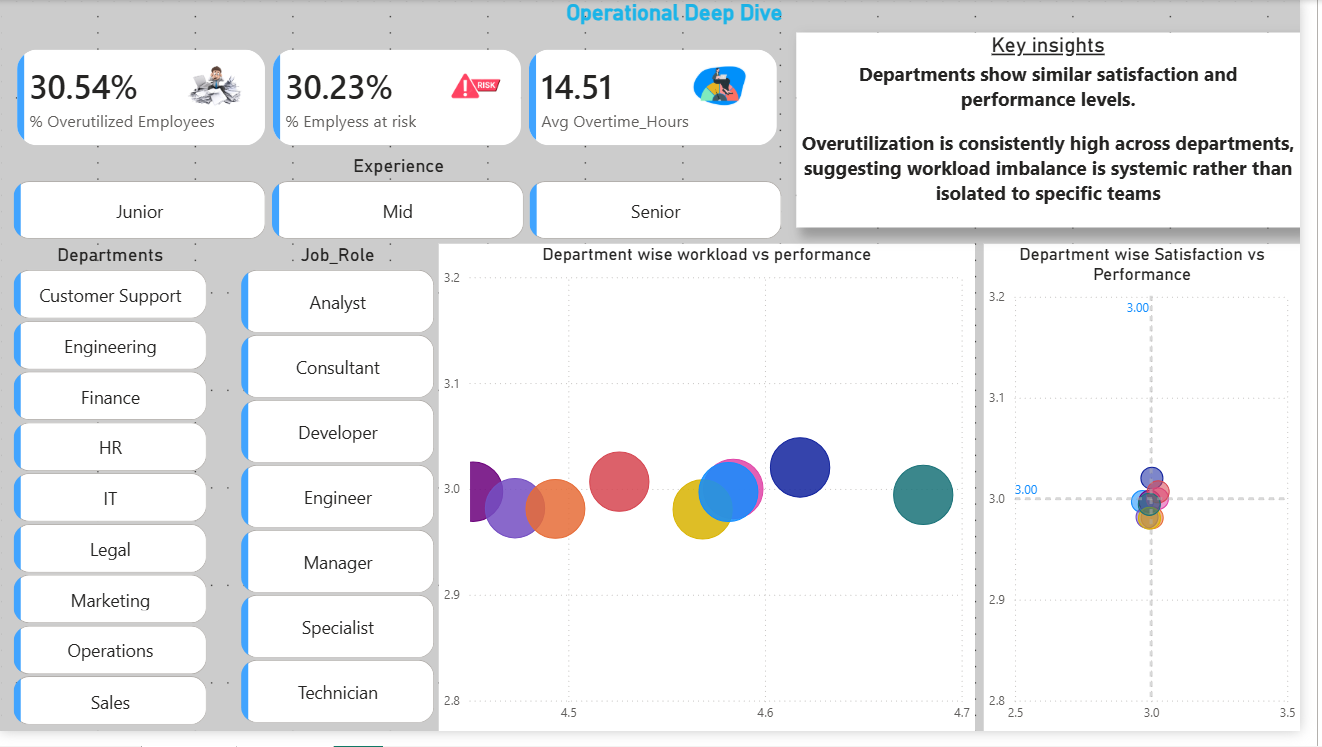

The dashboard page shown, as its layout file describes it:
{"tool":"powerbi","page":{"name":"Page 2","canvas":[1280,720],"ordinal":1},"visuals":[{"type":"textbox","title":"Operational Deep Dive","box":[544,0,240,32],"z":0},{"type":"cardVisual","fields":{"Data":["Employee Data.% Overutilized Employees","Employee Data.% Emplyess at risk","Avg(Employee Data.Overtime_Hours)"]},"box":[0,32,784,128],"z":1000},{"type":"advancedSlicerVisual","fields":{"Values":["Employee Data.Experience Bucket"]},"box":[8,152,768,88],"z":2000},{"type":"advancedSlicerVisual","title":"Departments","fields":{"Values":["Employee Data.Department"]},"box":[8,240,200,480],"z":3000},{"type":"advancedSlicerVisual","fields":{"Values":["Employee Data.Job_Title"]},"box":[232,240,200,480],"z":4000},{"type":"image","box":[184,56,56,56],"z":5000},{"type":"image","box":[440,56,56,56],"z":6000},{"type":"image","box":[680,56,56,56],"z":7000},{"type":"scatterChart","title":"Department wise workload vs performance","fields":{"X":["Avg(Employee Data.Workload Index)"],"Y":["Avg(Employee Data.Performance_Score)"],"Series":["Employee Data.Department"],"Size":["Avg(Employee Data.Overtime_Hours)"]},"box":[432,240,528,480],"z":8000},{"type":"scatterChart","title":"Department wise Satisfaction vs Performance","fields":{"X":["Avg(Employee Data.Employee_Satisfaction_Score)"],"Y":["Avg(Employee Data.Performance_Score)"],"Series":["Employee Data.Department"]},"box":[968,240,312,480],"z":9000},{"type":"textbox","title":"Key insights","box":[784,32,496,192],"z":10000}]}

Visuals, with their boxes in screenshot pixels (x1, y1, x2, y2), scaled from the page's 1280x720 canvas onto the 1322x747 screenshot:
"Operational Deep Dive" textbox: pyautogui.locateOnScreen(562, 0, 810, 33)
cardVisual - Employee Data.% Overutilized Employees x Employee Data.% Emplyess at risk: pyautogui.locateOnScreen(0, 33, 810, 166)
advancedSlicerVisual - Employee Data.Experience Bucket: pyautogui.locateOnScreen(8, 158, 801, 249)
"Departments" advancedSlicerVisual: pyautogui.locateOnScreen(8, 249, 215, 746)
advancedSlicerVisual - Employee Data.Job_Title: pyautogui.locateOnScreen(240, 249, 446, 746)
image: pyautogui.locateOnScreen(190, 58, 248, 116)
image: pyautogui.locateOnScreen(454, 58, 512, 116)
image: pyautogui.locateOnScreen(702, 58, 760, 116)
"Department wise workload vs performance" scatterChart: pyautogui.locateOnScreen(446, 249, 991, 746)
"Department wise Satisfaction vs Performance" scatterChart: pyautogui.locateOnScreen(1000, 249, 1321, 746)
"Key insights" textbox: pyautogui.locateOnScreen(810, 33, 1321, 232)
